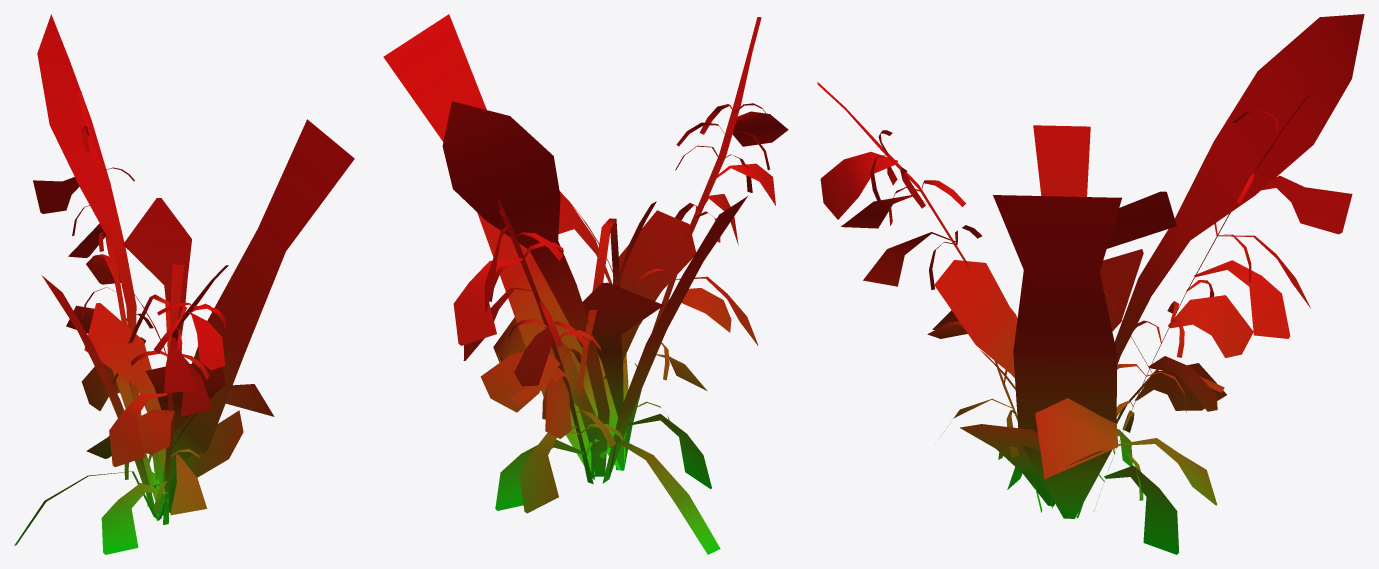
File: Green Herb_LOD2_Var4_tbbpaier.fbx
3 views of the same model, side by side, from view 1: azimuth 30°, elevation 25°; view 2: azimuth 150°, elevation 25°; view 3: azimuth 270°, elevation 25° (orthographic). The views are drawn at different scales.
Visible parts, largest first — view 1: _f182_Var4_LOD2; view 2: _f182_Var4_LOD2; view 3: _f182_Var4_LOD2.
Part boxes in pixels (x1,y1,x2,y2): _f182_Var4_LOD2: (14,14,354,554); _f182_Var4_LOD2: (383,14,788,554); _f182_Var4_LOD2: (817,14,1364,554).
Bounding box in the file's own units: 10.19 × 14.32 × 13.34.
